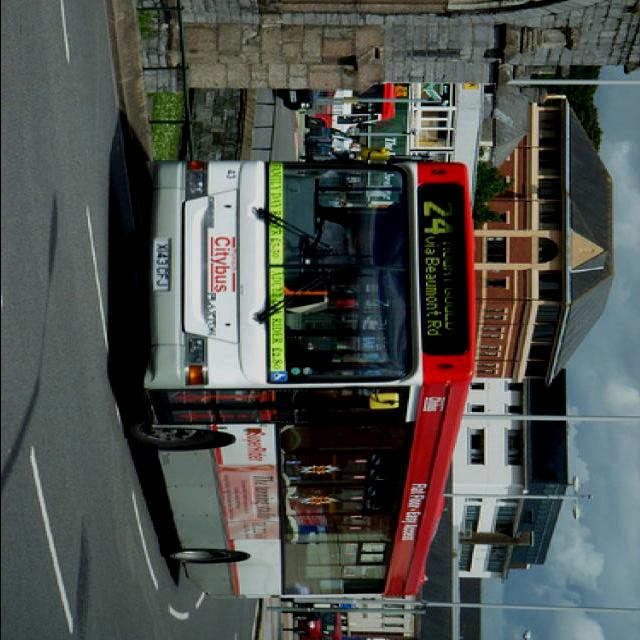bus: (119, 150, 478, 599)
